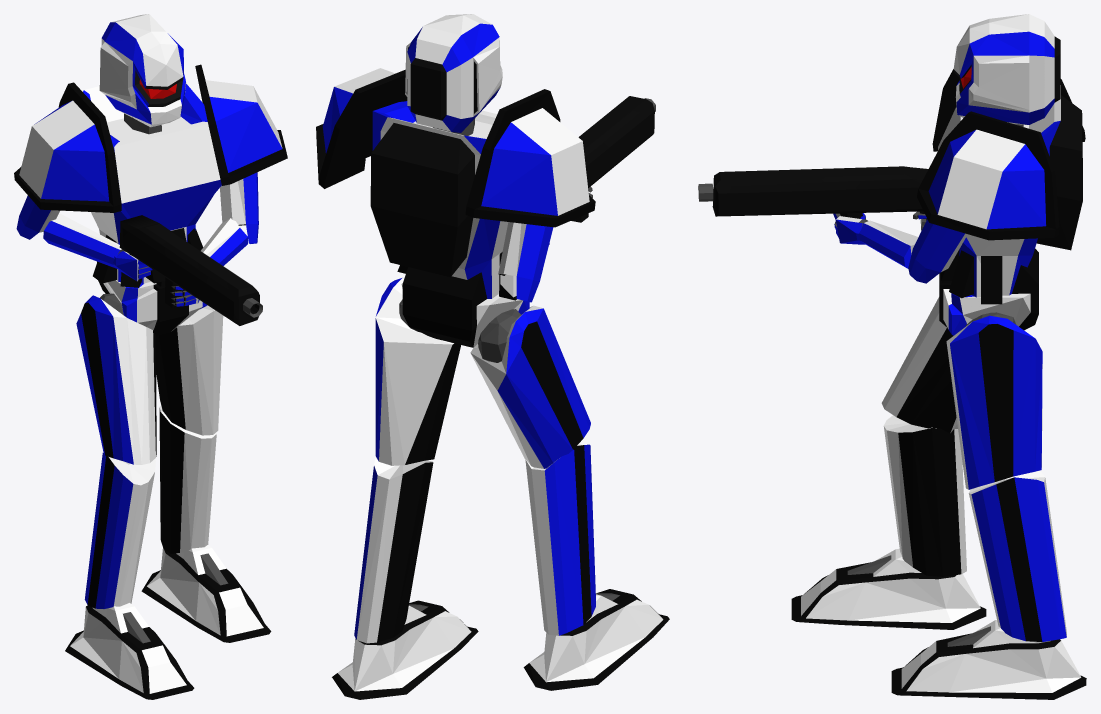
The model's file is robot_animation_000024.obj.
3 renders of one model, left to right at view 1: azimuth 30°, elevation 25°; view 2: azimuth 150°, elevation 25°; view 3: azimuth 270°, elevation 25°, orthographic. The views are drawn at different scales.
Parts seen in each view (by area): view 1: Chest_plate_Cube.004, R_Thigh_Cube.005, Cube.002_Cube.059, Head_base_Cube.022, R_Shin_Cube.007, R_Foot.002_Cube.035, R_Foot_Cube, R_Thigh.002_Cube.027, Cube_Cube.001, R_Shin.002_Cube.029, Cube_Cube.021, Pelvis_Cube.006 (+5 smaller); view 2: Chest_plate_Cube.004, Cube.002_Cube.059, R_Thigh.002_Cube.027, R_Thigh_Cube.005, R_Shin_Cube.007, R_Shin.002_Cube.029, Head_base_Cube.022, R_Foot_Cube, R_Foot.002_Cube.035, Cube_Cube.021, Pelvis_Cube.006, Cube_Cube.001 (+2 smaller); view 3: Cube_Cube.021, R_Thigh.002_Cube.027, R_Shin.002_Cube.029, R_Shin_Cube.007, R_Foot.002_Cube.035, R_Foot_Cube, Head_base_Cube.022, Cube_Cube.001, Chest_plate_Cube.004, R_Thigh_Cube.005, Pelvis_Cube.006, L_Arm_Cube.014 (+3 smaller).
Part boxes in pixels (x1,y1,x2,y2): Chest_plate_Cube.004: (83, 84, 221, 287); R_Thigh_Cube.005: (76, 295, 156, 464); Cube.002_Cube.059: (14, 82, 121, 212); Head_base_Cube.022: (99, 14, 186, 127); R_Shin_Cube.007: (84, 453, 155, 608); R_Foot.002_Cube.035: (141, 545, 271, 642); R_Foot_Cube: (65, 603, 194, 699); R_Thigh.002_Cube.027: (156, 305, 223, 435); Cube_Cube.001: (119, 215, 262, 325); R_Shin.002_Cube.029: (159, 406, 216, 553); Cube_Cube.021: (195, 64, 287, 185); Pelvis_Cube.006: (97, 262, 207, 335); Chest_plate_Cube.004: (370, 101, 516, 300); Cube.002_Cube.059: (465, 89, 595, 227); R_Thigh.002_Cube.027: (375, 277, 460, 465); R_Thigh_Cube.005: (470, 305, 590, 468); R_Shin_Cube.007: (525, 444, 595, 635); R_Shin.002_Cube.029: (354, 456, 433, 643); Head_base_Cube.022: (405, 14, 502, 132); R_Foot_Cube: (523, 589, 669, 690); R_Foot.002_Cube.035: (332, 600, 478, 699); Cube_Cube.021: (316, 68, 407, 188); Pelvis_Cube.006: (401, 267, 529, 347); Cube_Cube.001: (571, 96, 655, 222); Cube_Cube.021: (917, 111, 1059, 240); R_Thigh.002_Cube.027: (946, 315, 1042, 489); R_Shin.002_Cube.029: (968, 470, 1066, 641); R_Shin_Cube.007: (883, 415, 966, 576); R_Foot.002_Cube.035: (891, 620, 1086, 699); R_Foot_Cube: (791, 548, 986, 629); Head_base_Cube.022: (953, 14, 1060, 124); Cube_Cube.001: (698, 166, 928, 220); Chest_plate_Cube.004: (938, 85, 1082, 304); R_Thigh_Cube.005: (881, 297, 1025, 433); Pelvis_Cube.006: (939, 248, 1038, 335); L_Arm_Cube.014: (908, 219, 967, 283).
Size of the model in its own units: 1.32 by 3.03 by 1.69.
